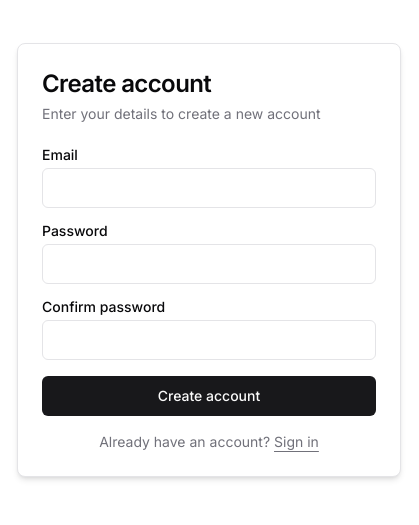
it: RegisterPage › shows server error when register rejects
Type "a@b.com" into the field labelled "Email" at [209, 188], box [42, 168, 376, 208]
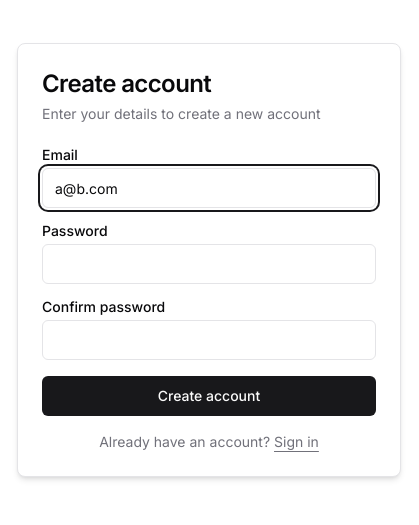
Type "secret123" into the password field labelled "Password" at [209, 264], box [42, 244, 376, 284]
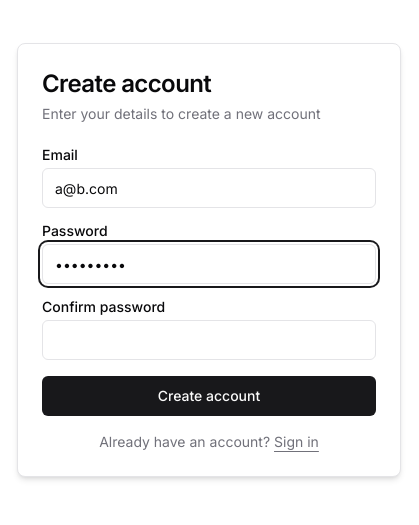
Type "secret123" into the password field labelled "Confirm password" at [209, 340], box [42, 320, 376, 360]
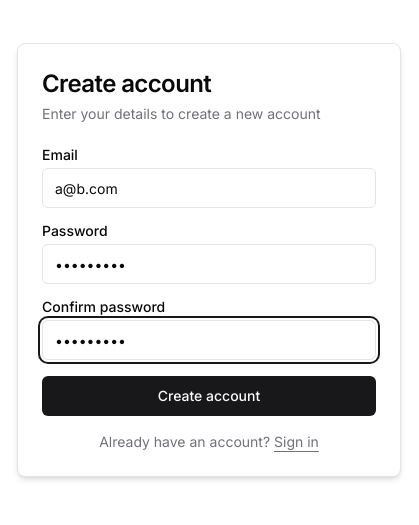
Click the button "Create account" at [209, 396], box [42, 376, 376, 416]
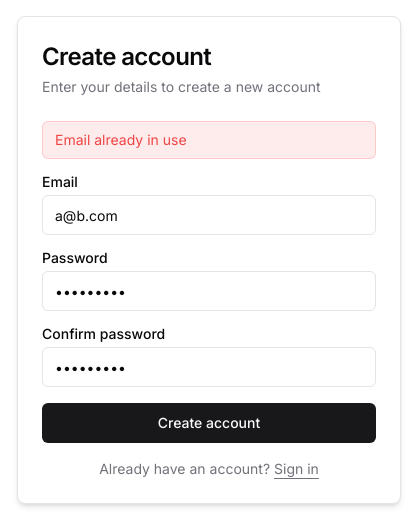
Expected: the text "Email already in use" is shown, [42, 121, 376, 159]
